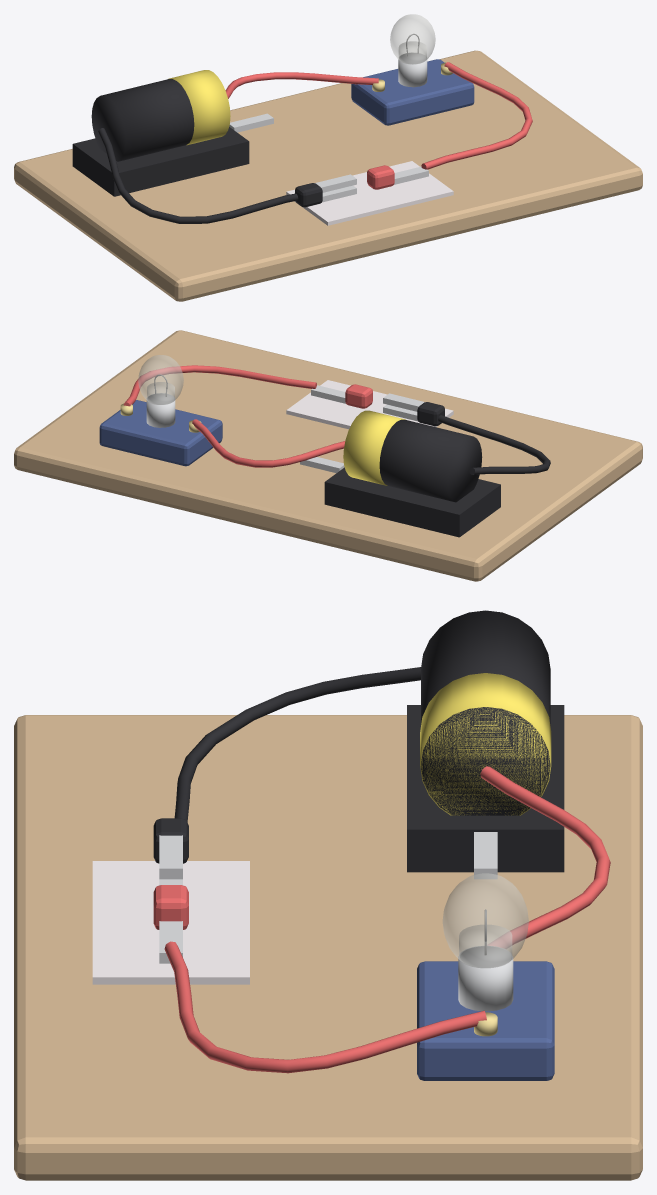
Rendered from circuit_tester.glb.
3 views of the same model, one above another, from view 1: azimuth 30°, elevation 25°; view 2: azimuth 150°, elevation 25°; view 3: azimuth 270°, elevation 25° (orthographic). The views are drawn at different scales.
Parts seen in each view (by area): view 1: ct_board, ct_cell, ct_cell_holder, ct_bulb_holder, ct_test_pad, ct_cell_band, ct_wire2, ct_bulb_glass, ct_wire3, ct_wire1, ct_bulb_socket, ct_clipR_sleeve (+4 smaller); view 2: ct_board, ct_cell, ct_cell_holder, ct_bulb_holder, ct_cell_band, ct_test_pad, ct_bulb_glass, ct_wire3, ct_wire2, ct_wire1, ct_bulb_socket, ct_clipR_sleeve (+5 smaller); view 3: ct_board, ct_cell, ct_test_pad, ct_bulb_holder, ct_cell_band, ct_cell_holder, ct_bulb_glass, ct_wire3, ct_wire2, ct_wire1, ct_bulb_socket, ct_bulb_neck (+4 smaller).
Boxes of the visible parts, <box> form: ct_board: <box>14,50,642,301</box>; ct_cell: <box>91,79,194,161</box>; ct_cell_holder: <box>72,127,249,196</box>; ct_bulb_holder: <box>351,59,474,125</box>; ct_test_pad: <box>286,161,453,225</box>; ct_cell_band: <box>168,70,230,145</box>; ct_wire2: <box>98,128,298,223</box>; ct_bulb_glass: <box>390,14,435,63</box>; ct_wire3: <box>421,62,532,169</box>; ct_wire1: <box>225,72,378,98</box>; ct_bulb_socket: <box>398,52,427,87</box>; ct_clipR_sleeve: <box>367,165,394,189</box>; ct_board: <box>14,330,642,581</box>; ct_cell: <box>379,419,482,502</box>; ct_cell_holder: <box>324,467,500,537</box>; ct_bulb_holder: <box>99,400,222,466</box>; ct_cell_band: <box>343,410,405,485</box>; ct_test_pad: <box>286,380,453,429</box>; ct_bulb_glass: <box>138,355,183,404</box>; ct_wire3: <box>123,365,316,406</box>; ct_wire2: <box>438,415,550,474</box>; ct_wire1: <box>192,419,345,467</box>; ct_bulb_socket: <box>146,393,175,427</box>; ct_clipR_sleeve: <box>345,384,372,408</box>; ct_board: <box>14,715,642,1180</box>; ct_cell: <box>421,610,550,815</box>; ct_test_pad: <box>92,861,249,984</box>; ct_bulb_holder: <box>417,961,554,1080</box>; ct_cell_band: <box>420,673,551,815</box>; ct_cell_holder: <box>407,705,564,872</box>; ct_bulb_glass: <box>442,873,528,967</box>; ct_wire3: <box>164,941,486,1073</box>; ct_wire2: <box>174,667,420,822</box>; ct_wire1: <box>480,766,610,948</box>; ct_bulb_socket: <box>458,946,513,1011</box>; ct_bulb_neck: <box>459,925,511,967</box>.
Size of the model in its own units: 0.26 by 0.0587 by 0.16.
